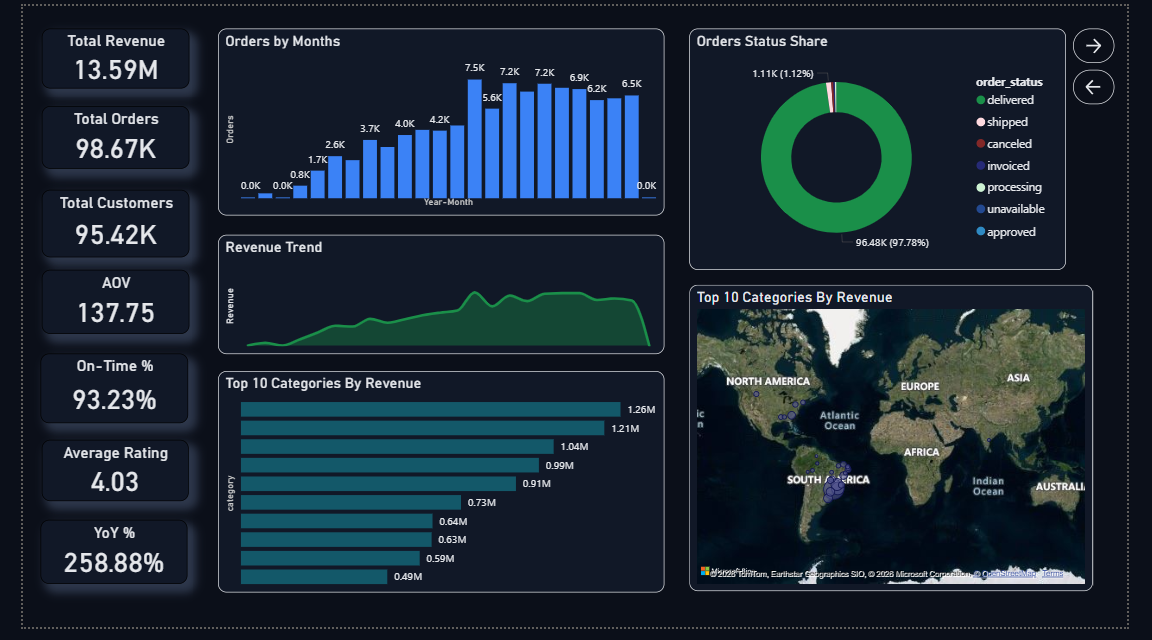

This screenshot's page, from the dashboard's own definition file:
{"tool":"powerbi","page":{"name":"Overview (Executive Dashboard)","canvas":[1280,720],"ordinal":1},"visuals":[{"type":"card","title":"Total Revenue","fields":{"Values":["public bi_fact_sales.Revenue"]},"box":[22,26.1,171.5,70],"z":0},{"type":"card","title":"Total Orders","fields":{"Values":["public bi_fact_sales.Orders"]},"box":[22,115.3,171.5,72.7],"z":1000},{"type":"card","title":"Total Customers","fields":{"Values":["public bi_fact_sales.Customers"]},"box":[22,212.7,171.5,78.2],"z":2000},{"type":"card","title":"AOV","fields":{"Values":["public bi_fact_sales.AOV"]},"box":[22,306,171.5,74.1],"z":3000},{"type":"card","title":"On-Time %","fields":{"Values":["public bi_fact_sales.On-time %"]},"box":[20.6,403.4,171.5,81],"z":4000},{"type":"card","title":"Average Rating","fields":{"Values":["public bi_fact_sales.Avg Rating"]},"box":[22,502.2,170.2,71.4],"z":5000},{"type":"card","title":"YoY %","fields":{"Values":["public bi_fact_sales.YoY %"]},"box":[20.6,595.5,170.2,74.1],"z":6000},{"type":"areaChart","title":"Revenue Trend","fields":{"Category":["DimDate.Year-Month"],"Y":["public bi_fact_sales.Revenue"]},"box":[226.4,264.8,517.3,138.6],"z":7000},{"type":"columnChart","title":"Orders by Months","fields":{"Category":["DimDate.Year-Month"],"Y":["public bi_fact_sales.Orders"]},"box":[226.4,26.1,517.3,216.8],"z":8000},{"type":"barChart","title":"Top 10 Categories By Revenue","fields":{"Category":["public bi_fact_sales.category"],"Y":["public bi_fact_sales.Revenue"]},"box":[226.4,422.6,517.3,256.6],"z":9000},{"type":"map","title":"Top 10 Categories By Revenue","fields":{"Size":["public bi_fact_sales.Revenue"],"Category":["public bi_fact_sales.customer_state"]},"box":[772.6,323.8,467.9,355.4],"z":10000},{"type":"donutChart","title":"Orders Status Share","fields":{"Y":["public bi_fact_sales.Orders"],"Category":["public bi_fact_sales.order_status"]},"box":[772.8,25.7,436.6,280],"z":11000},{"type":"actionButton","box":[1216.7,25.7,47.7,40.4],"z":12000},{"type":"actionButton","box":[1216.7,74.6,47.7,40.4],"z":13000}]}

Visuals, with their boxes in screenshot pixels (x1, y1, x2, y2), scaled from the page's 1280x720 canvas onto the 1152x640 screenshot:
"Total Revenue" card: <box>20,23,174,85</box>
"Total Orders" card: <box>20,102,174,167</box>
"Total Customers" card: <box>20,189,174,259</box>
"AOV" card: <box>20,272,174,338</box>
"On-Time %" card: <box>19,359,173,431</box>
"Average Rating" card: <box>20,446,173,510</box>
"YoY %" card: <box>19,529,172,595</box>
"Revenue Trend" areaChart: <box>204,235,669,359</box>
"Orders by Months" columnChart: <box>204,23,669,216</box>
"Top 10 Categories By Revenue" barChart: <box>204,376,669,604</box>
"Top 10 Categories By Revenue" map: <box>695,288,1116,604</box>
"Orders Status Share" donutChart: <box>696,23,1088,272</box>
actionButton: <box>1095,23,1138,59</box>
actionButton: <box>1095,66,1138,102</box>
